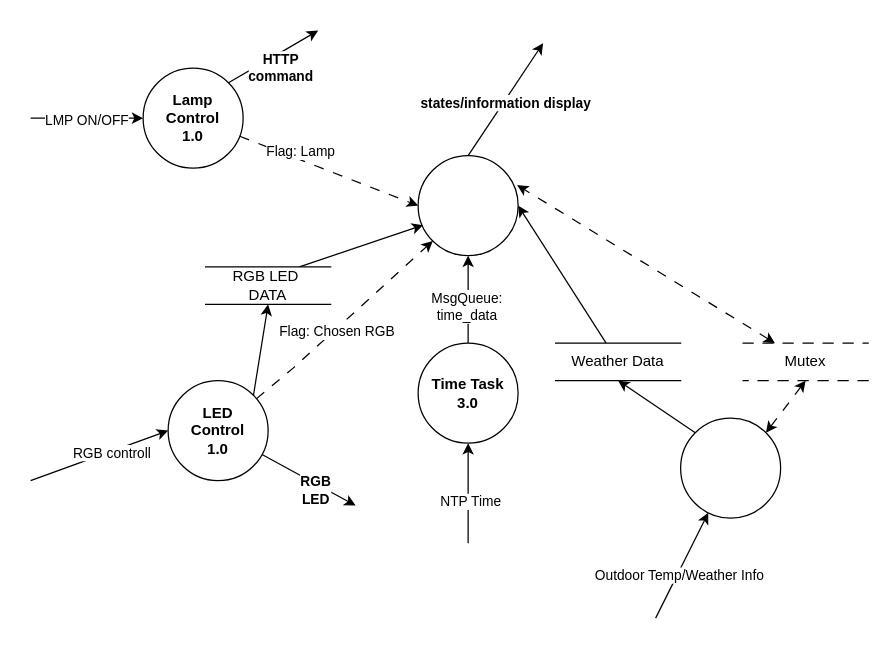
Image size: 890x650. Some labels were removed from this diagram. The shapes that lost their labels are listed below. From the top down, each one's box as (x1, y1, x2, y2) in pixels, then its label:
(417, 154, 518, 256): Display UI 2.0
(679, 417, 781, 518): Outdoor Sensor 4.0
